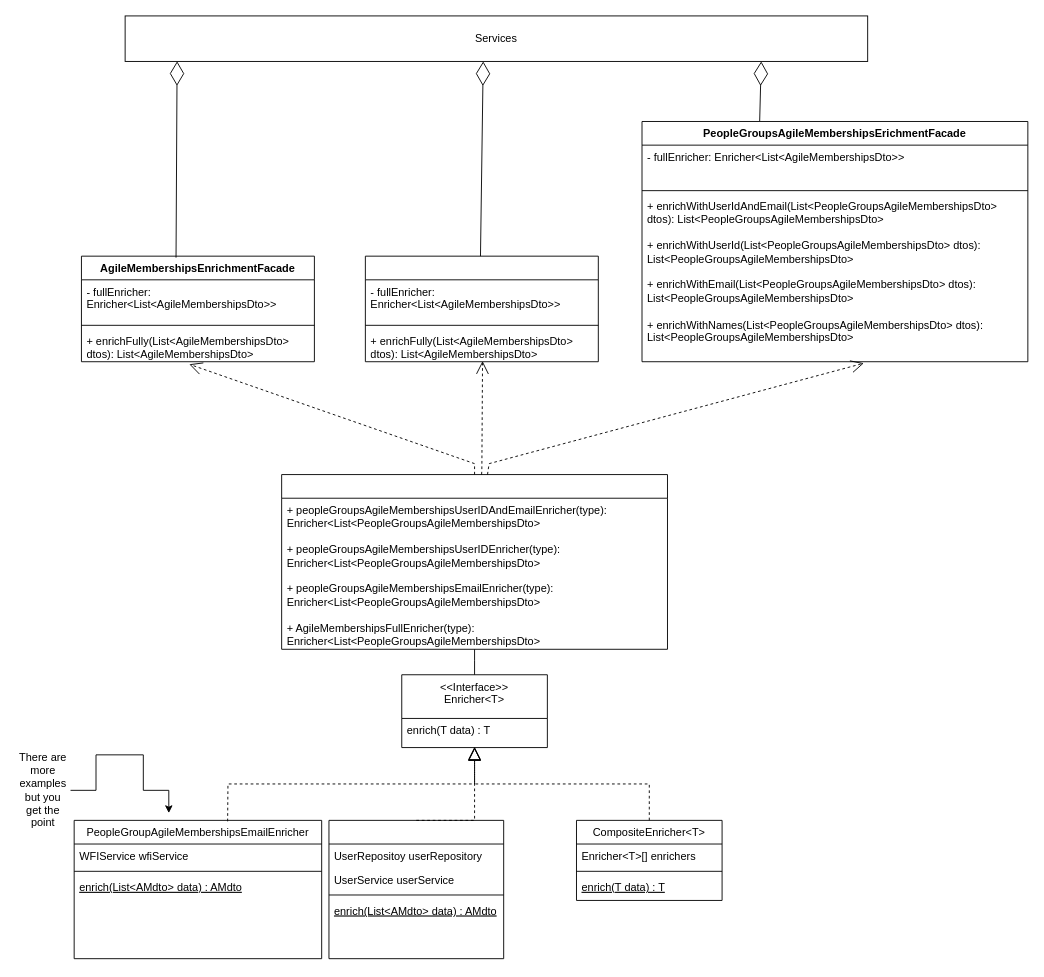
The diagram is 1044 pixels wide and 977 high, and some of its shapes have lost their labels. The shapes that lost their labels are listed below. From the top down, each one's box as (x1, y1, x2, y2) in pixels, then its label:
(364, 255, 598, 362): UserEnrichmentFacade
(281, 474, 667, 649): EnricherConfig
(328, 819, 504, 959): AgileMembershipsUserIdEnricher
